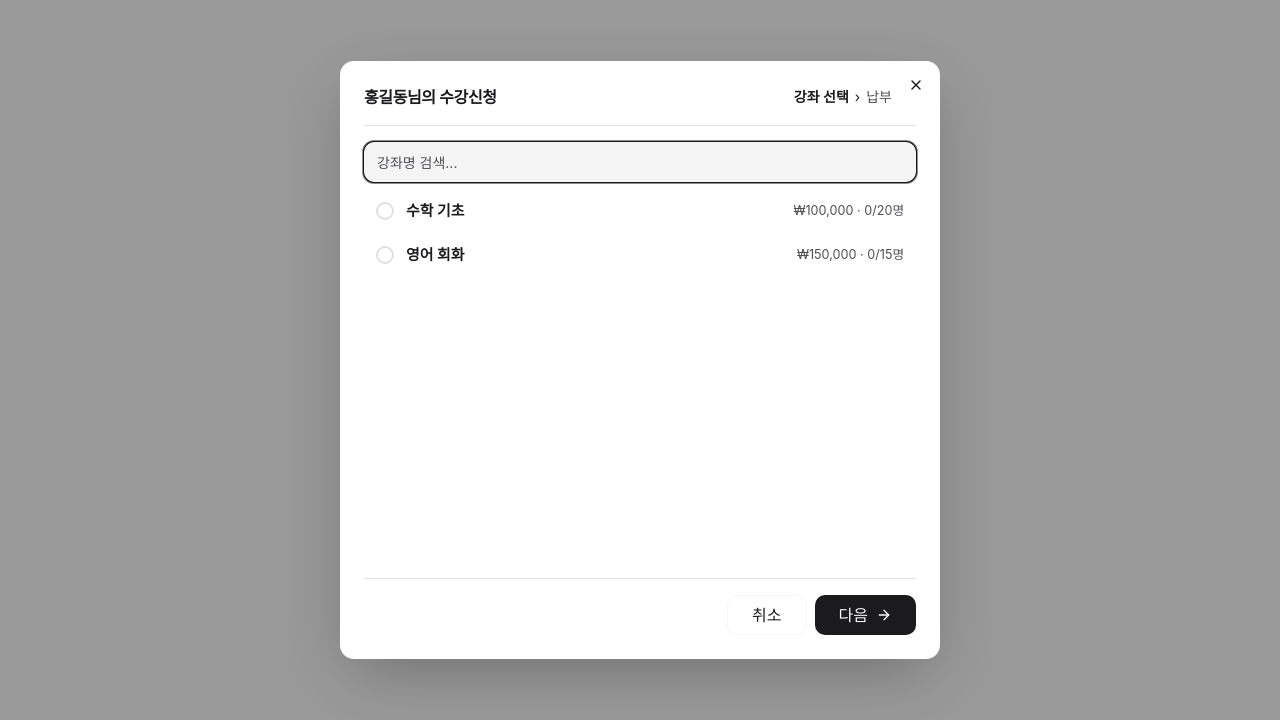
Test: EnrollmentForm › submit button (신청) is enabled on the payment step
The image size is (1280, 720).
Step 1. Click the button "수학 기초 ₩100,000 · 0/20명" → (435, 211), box [364, 190, 916, 232]
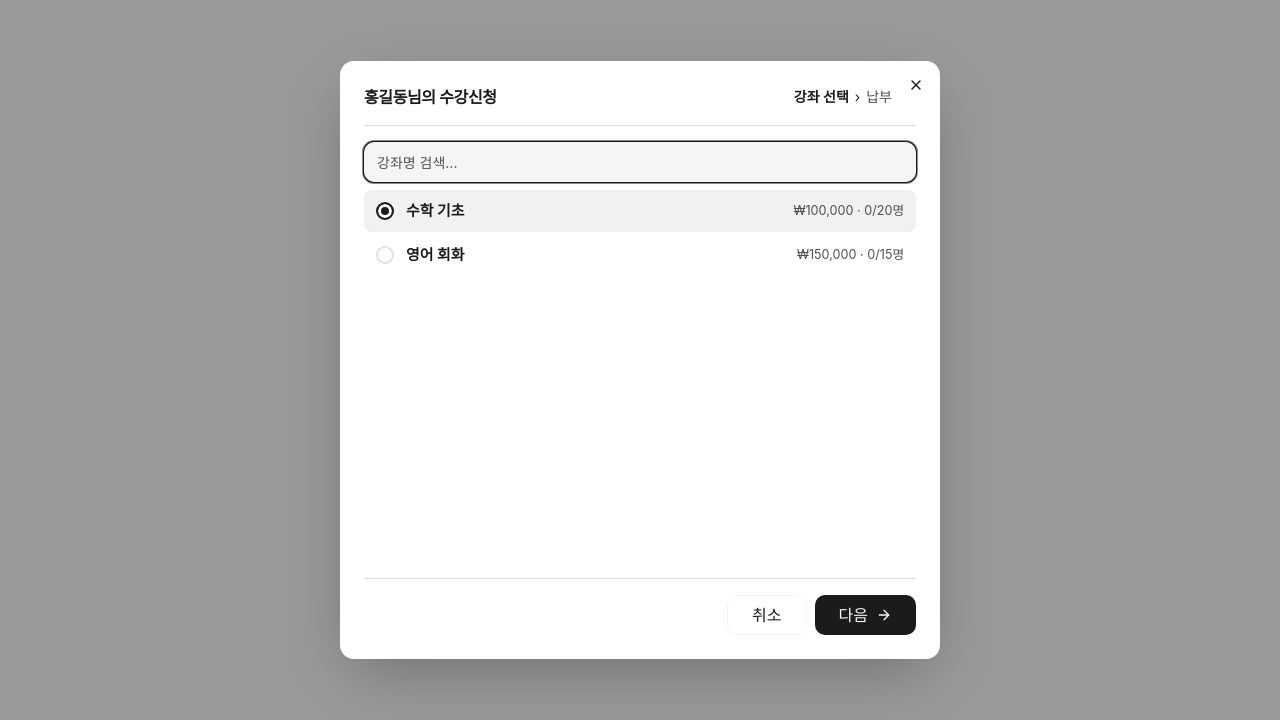
Step 2. Click the button "다음" → (865, 615), box [814, 595, 916, 635]
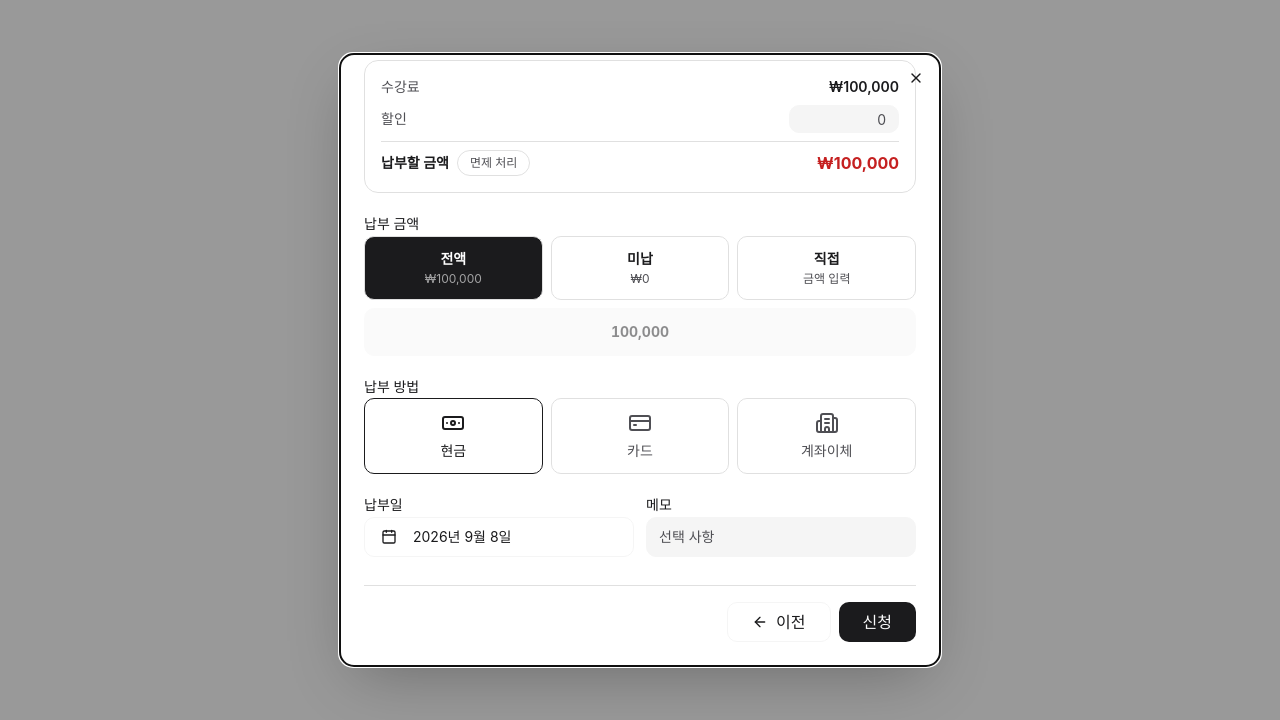
Expected: the button "신청" is enabled, [838, 602, 916, 642]
Expected: the text "납부 방법" is shown, [364, 378, 419, 394]
